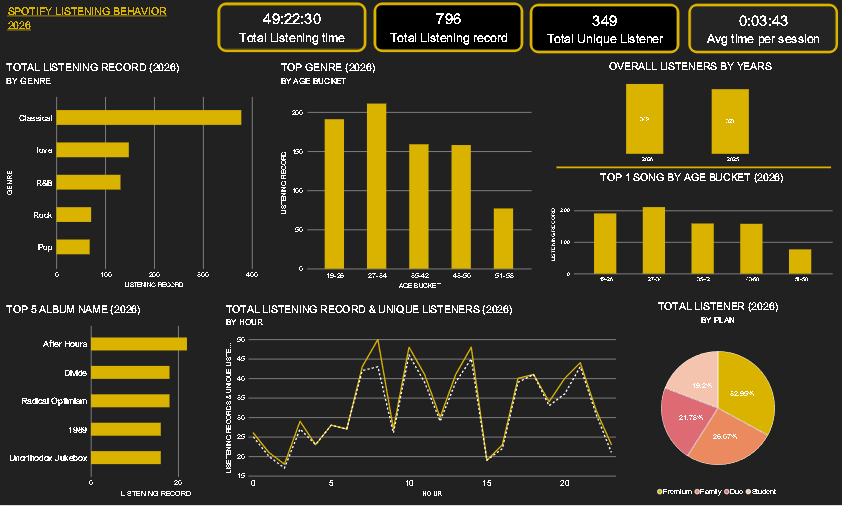

This screenshot's page, from the dashboard's own definition file:
{"tool":"powerbi","page":{"name":"DASHBOARD","canvas":[1920,1150],"ordinal":0},"visuals":[{"type":"cardVisual","fields":{"Data":["public album_table.Total Listening hour"]},"box":[496.8,6.1,339.3,113.1],"z":0},{"type":"cardVisual","fields":{"Data":["public album_table.Total Listening record"]},"box":[852.2,6.1,341.3,113.1],"z":1000},{"type":"cardVisual","fields":{"Data":["public album_table.Total Unique Listener"]},"box":[1209.6,8.1,341.3,113.1],"z":2000},{"type":"cardVisual","fields":{"Data":["public album_table.Avg time per session"]},"box":[1569.1,8.1,341.3,113.1],"z":3000},{"type":"clusteredColumnChart","title":"TOP 1 SONG BY AGE BUCKET (2026)","fields":{"Category":["public user_table.Age Bucket"],"Y":["public album_table.Total Listening record"]},"box":[1242.5,372.5,672.5,292.5],"z":4000},{"type":"clusteredColumnChart","box":[1312.9,1275.7,763,375],"z":5000},{"type":"clusteredColumnChart","title":"OVERALL LISTENERS BY YEARS","fields":{"Category":["public listening_table.YEARS"],"Y":["public album_table.Overall Listener"]},"box":[1235,120,675,272.5],"z":6000},{"type":"pieChart","title":"TOTAL LISTENER (2026)","fields":{"Category":["public user_table.plan"],"Y":["public album_table.Total listener 2026"]},"box":[1352.7,665.6,567.8,484.3],"z":7000},{"type":"clusteredColumnChart","title":"TOP GENRE (2026)","fields":{"Category":["public user_table.Age Bucket"],"Y":["public album_table.Total Listening record"]},"box":[624,121.2,603.8,553.3],"z":8000},{"type":"lineChart","title":"TOTAL LISTENING RECORD & UNIQUE LISTENERS (2026)","fields":{"Category":["public listening_table.Hours"],"Y":["public album_table.Total Listening record","public album_table.Total listener 2026"]},"box":[498.6,672.8,920.9,477.2],"z":9000},{"type":"clusteredBarChart","title":"TOTAL LISTENING RECORD (2026)","fields":{"Y":["public album_table.Total Listening record"],"Category":["public track.genre"]},"box":[0,123.2,605.8,551.3],"z":10000},{"type":"clusteredBarChart","title":"TOP 5 ALBUM NAME (2026)","fields":{"Category":["public album_table.album_name"],"Y":["public album_table.Total Listening record"]},"box":[0,672.5,532,477.2],"z":11000},{"type":"shape","box":[1270,360,625,40],"z":15000},{"type":"textbox","box":[18.2,8.1,409.9,80.8],"z":16000}]}

Visuals, with their boxes in screenshot pixels (x1, y1, x2, y2), scaled from the page's 1920x1150 canvas onto the 842x506 screenshot:
cardVisual - public album_table.Total Listening hour: bbox(218, 3, 367, 52)
cardVisual - public album_table.Total Listening record: bbox(374, 3, 523, 52)
cardVisual - public album_table.Total Unique Listener: bbox(530, 4, 680, 53)
cardVisual - public album_table.Avg time per session: bbox(688, 4, 838, 53)
"TOP 1 SONG BY AGE BUCKET (2026)" clusteredColumnChart: bbox(545, 164, 840, 293)
"OVERALL LISTENERS BY YEARS" clusteredColumnChart: bbox(542, 53, 838, 173)
"TOTAL LISTENER (2026)" pieChart: bbox(593, 293, 841, 505)
"TOP GENRE (2026)" clusteredColumnChart: bbox(274, 53, 538, 297)
"TOTAL LISTENING RECORD & UNIQUE LISTENERS (2026)" lineChart: bbox(219, 296, 623, 505)
"TOTAL LISTENING RECORD (2026)" clusteredBarChart: bbox(0, 54, 266, 297)
"TOP 5 ALBUM NAME (2026)" clusteredBarChart: bbox(0, 296, 233, 505)
shape: bbox(557, 158, 831, 176)
textbox: bbox(8, 4, 188, 39)
